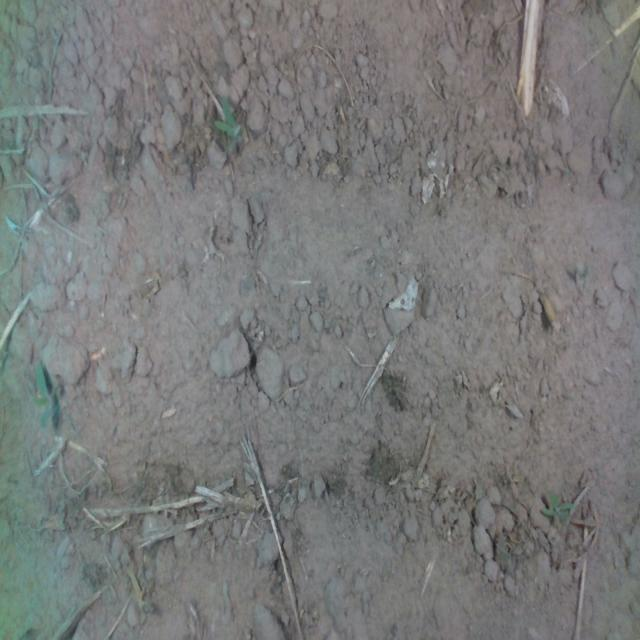weed: (28, 356, 54, 429), (210, 92, 242, 142), (538, 488, 574, 524)
